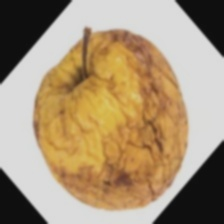apple: (9, 47, 188, 191)
